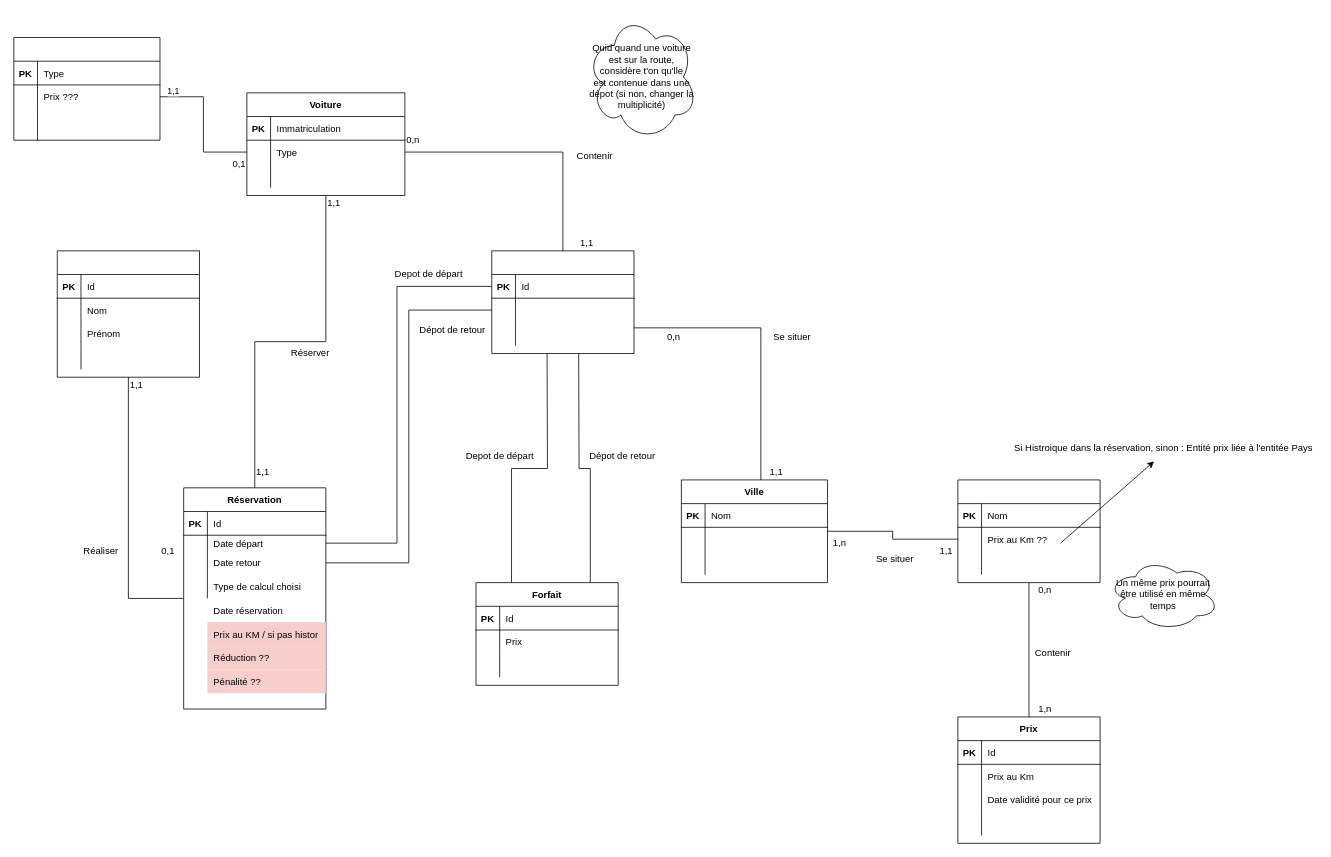
Some shapes in this 1331 by 857 pixel diagram are drawn without their labels. The box of each missing label's shape, as (x1, y1, x2, y2) in pixels:
Bureau/Dépot: (491, 250, 634, 354)
Client: (56, 250, 199, 377)
Notoriété: (13, 37, 160, 140)
Pays: (957, 479, 1100, 583)
